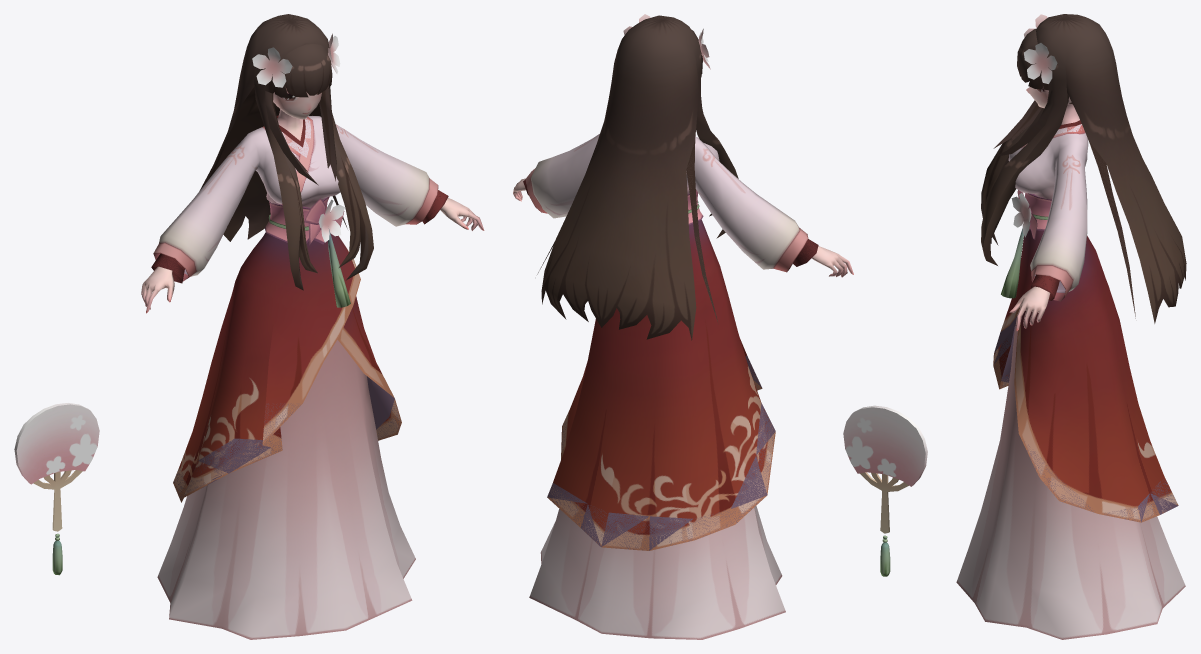
The model's file is h_053_shu_er_view.fbx.
3 renders of one model, left to right at view 1: azimuth 30°, elevation 25°; view 2: azimuth 150°, elevation 25°; view 3: azimuth 270°, elevation 25°, orthographic.
Parts seen in each view (by area): view 1: h_053_shu_er; view 2: h_053_shu_er; view 3: h_053_shu_er.
Part boxes in pixels (x1,y1,x2,y2): h_053_shu_er: [14, 14, 484, 639]; h_053_shu_er: [513, 14, 927, 639]; h_053_shu_er: [956, 14, 1186, 639].
Size of the model in its own units: 164 by 218 by 75.1.
